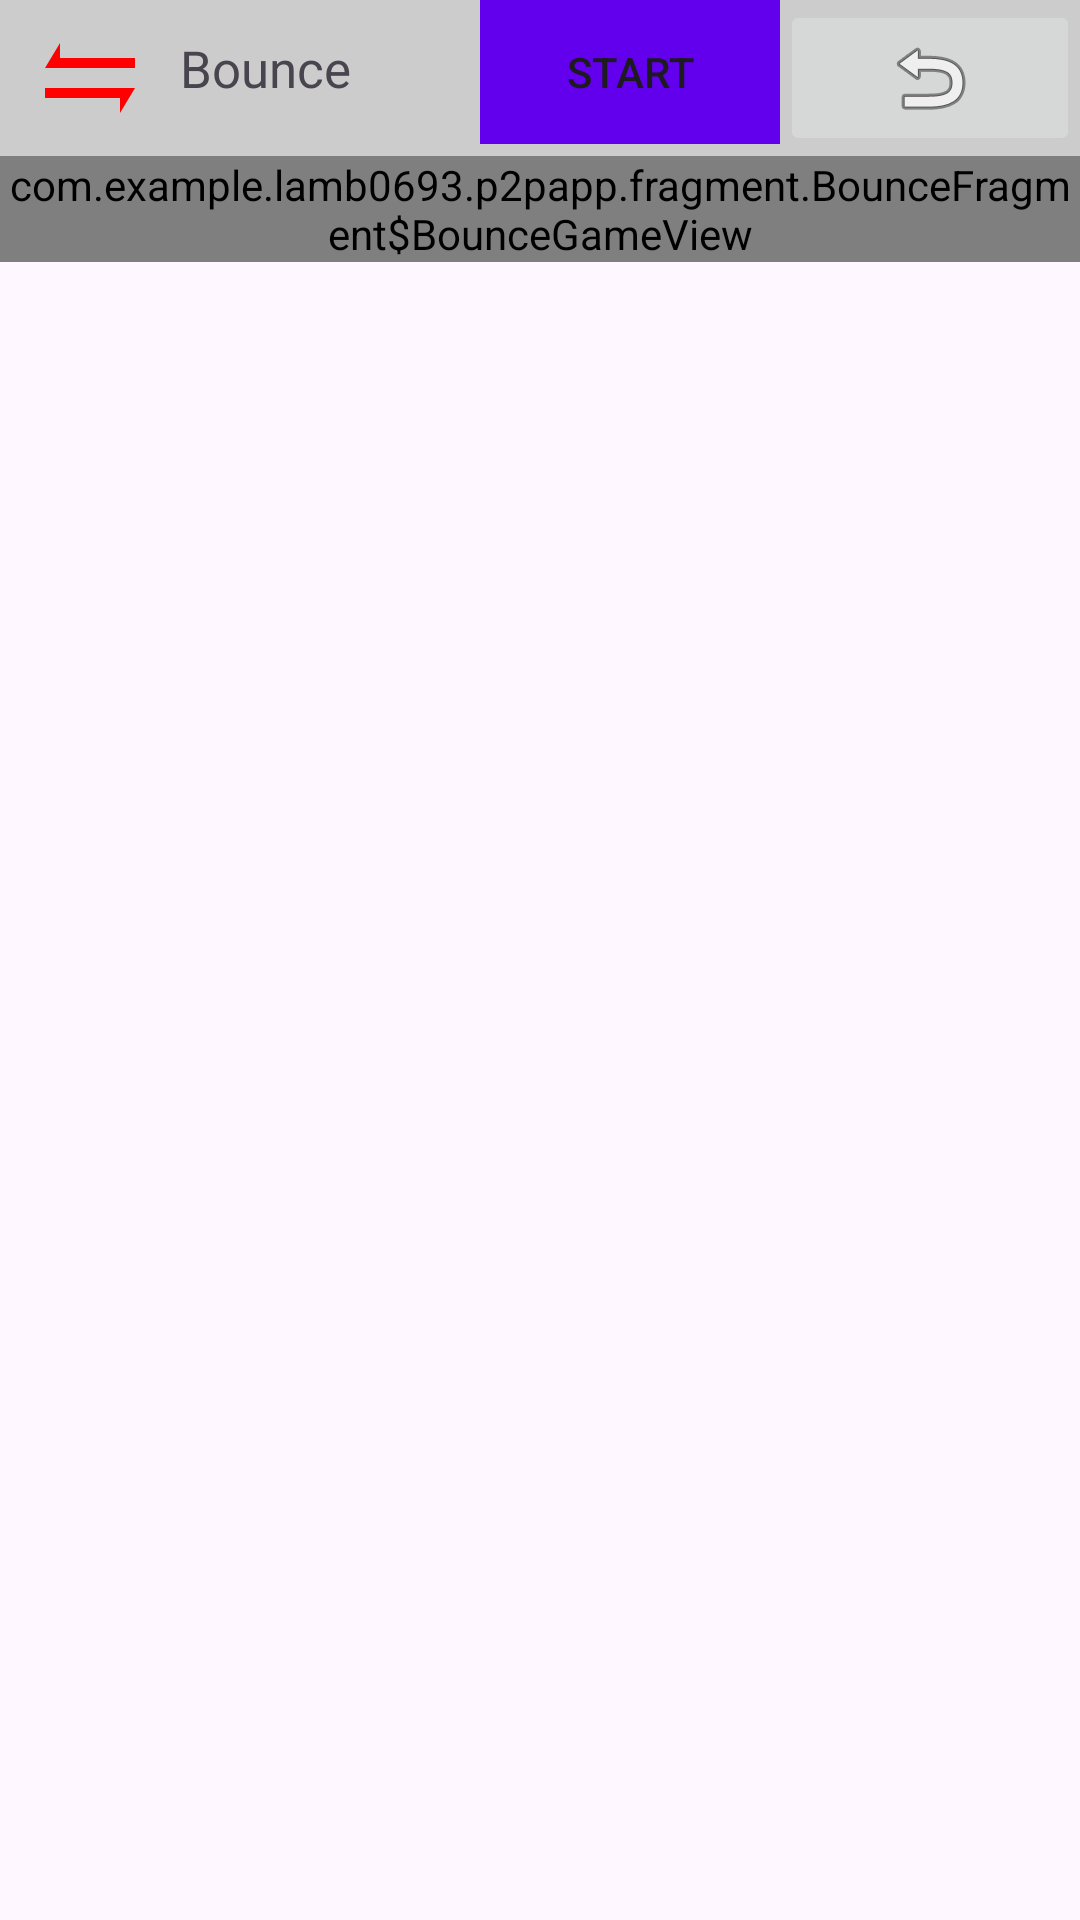

Icon click points for this 1080 × 1920 phone screenshot, format [x,y]:
custom socket connection off: [90,78]
revert: [930,78]
